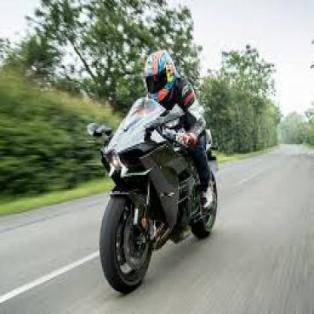Motocicleta: (78, 98, 222, 295)
